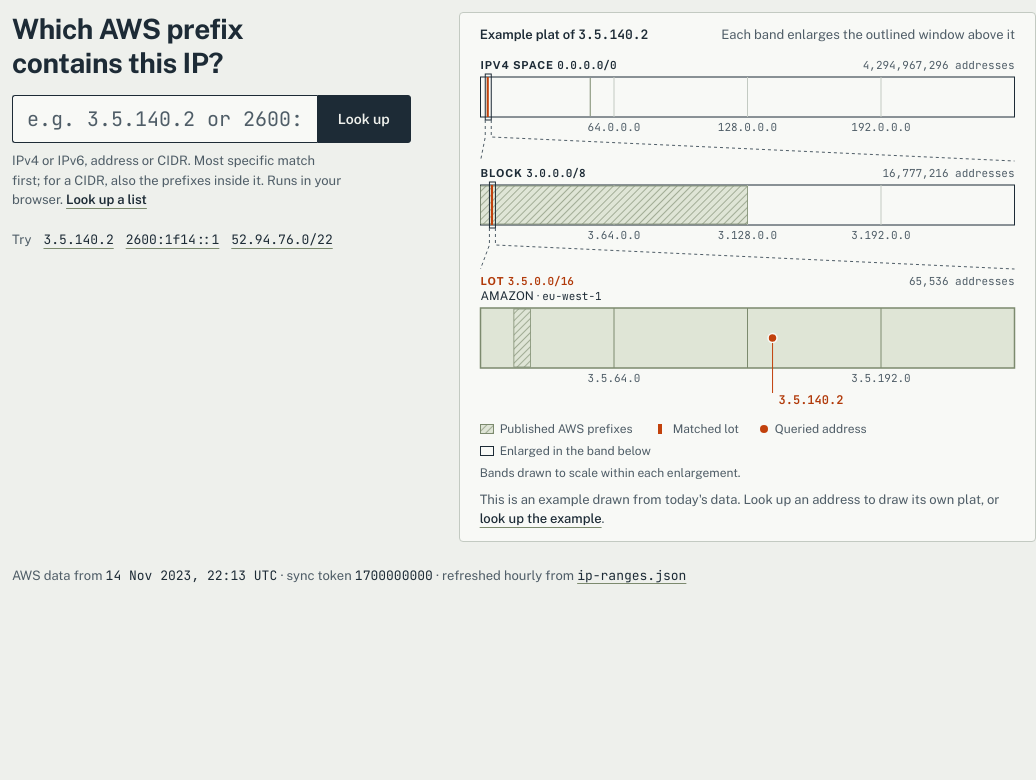
Scenario: PrefixLookup › explains a broad range that only contains published prefixes
This screenshot has width=1036, height=780.
Type "3.0.0.0/8" into the field named "IP address or CIDR" at (164, 119), box [12,95,317,143]
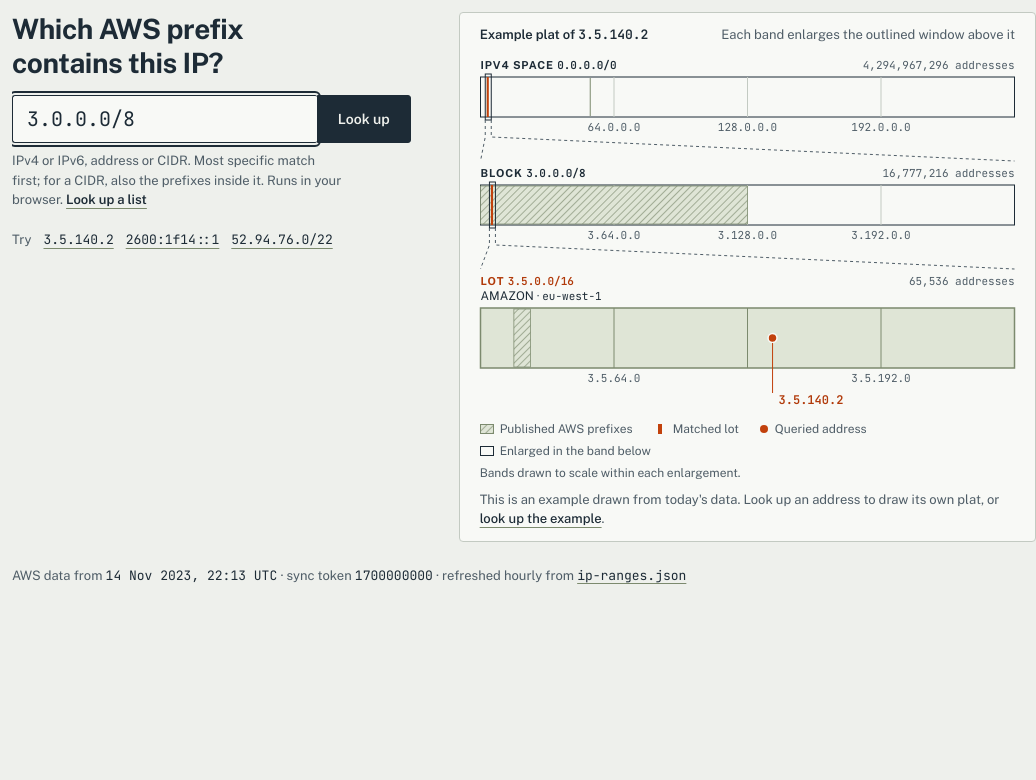
Click the button "Look up" at (364, 119), box [317,95,411,143]
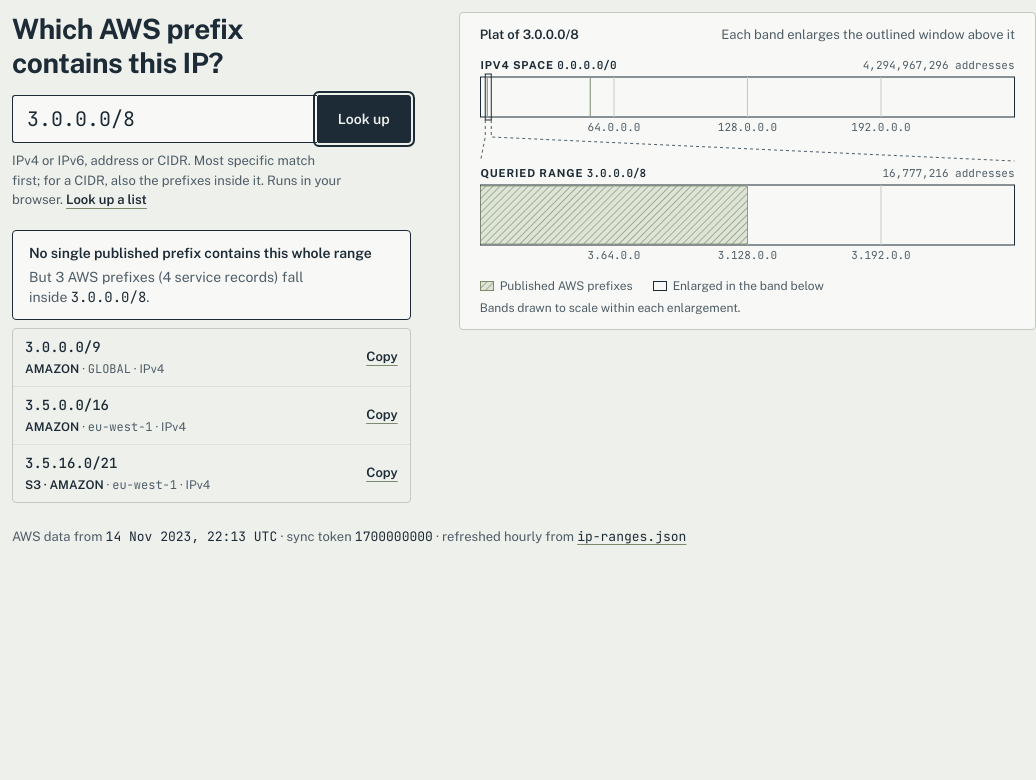
Expected: the text "No single published prefix contains this whole range" is shown, [29,243,394,263]
Expected: the text "3 AWS prefixes (4 service records) fall" is shown, [55,269,303,285]
